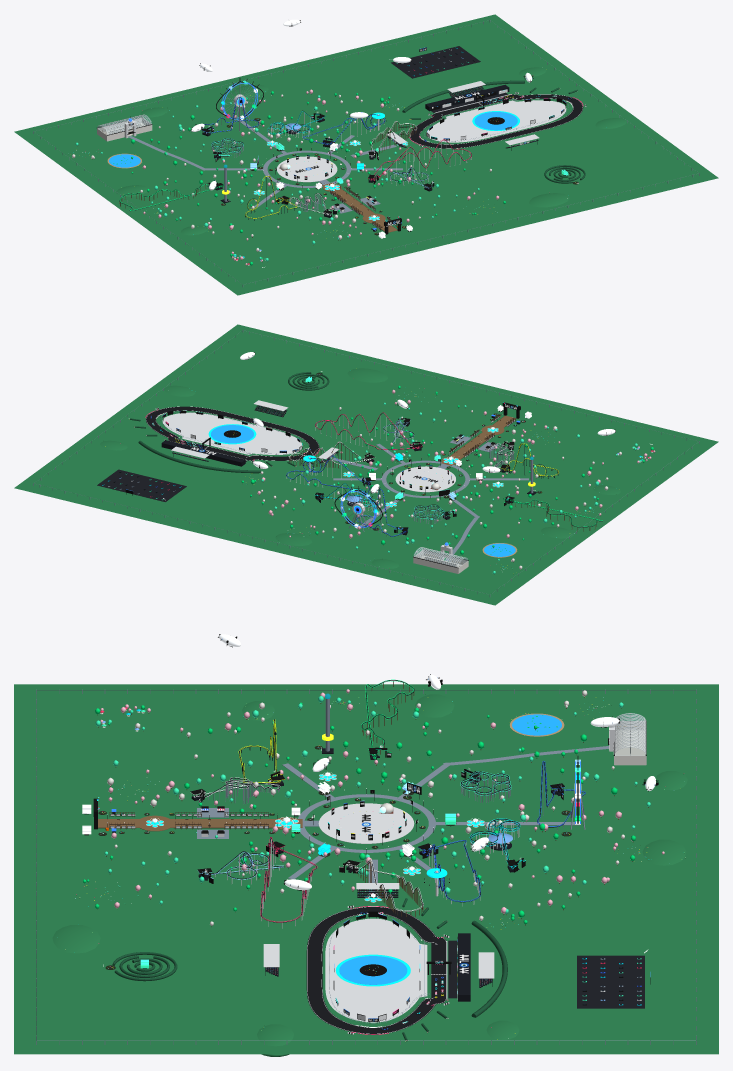
Rendered from gardens.glb.
3 views of the same model, one above another, from view 1: azimuth 30°, elevation 25°; view 2: azimuth 150°, elevation 25°; view 3: azimuth 270°, elevation 25° (orthographic). The views are drawn at different scales.
Visible parts, largest first — view 1: Ground, Sclera, Road, ParkLot, Plaza, Iris, RingPath, PitBuilding, BW_Deck, Berm3, FenceRail; view 2: Ground, Sclera, Road, ParkLot, Plaza, PitBuilding, Iris, RingPath, BW_Deck, LH_Glass, Eyebrow, FenceRail (+1 smaller); view 3: Ground, Sclera, Road, ParkLot, Plaza, FenceRail, Iris, RingPath, BW_Deck, Berm3, LH_Ribs, Berm2 (+7 smaller).
Boxes of the visible parts, bbox=[...] form: Ground: bbox=[14, 14, 718, 295]; Sclera: bbox=[426, 100, 566, 142]; Road: bbox=[410, 94, 583, 148]; ParkLot: bbox=[391, 46, 480, 78]; Plaza: bbox=[277, 156, 337, 182]; Iris: bbox=[474, 112, 517, 130]; RingPath: bbox=[263, 150, 350, 187]; PitBuilding: bbox=[425, 84, 509, 111]; BW_Deck: bbox=[322, 182, 397, 232]; Berm3: bbox=[529, 193, 569, 207]; FenceRail: bbox=[34, 20, 698, 284]; Ground: bbox=[14, 324, 718, 605]; Sclera: bbox=[162, 412, 302, 454]; Road: bbox=[146, 406, 319, 460]; ParkLot: bbox=[97, 469, 186, 501]; Plaza: bbox=[395, 466, 455, 492]; PitBuilding: bbox=[161, 440, 245, 466]; Iris: bbox=[211, 425, 253, 443]; RingPath: bbox=[382, 460, 469, 497]; BW_Deck: bbox=[441, 415, 515, 465]; LH_Glass: bbox=[413, 547, 467, 567]; Eyebrow: bbox=[138, 440, 260, 473]; FenceRail: bbox=[34, 330, 698, 594]; Ground: bbox=[14, 684, 718, 1054]; Sclera: bbox=[325, 918, 427, 1022]; Road: bbox=[306, 906, 446, 1034]; ParkLot: bbox=[577, 955, 644, 1008]; Plaza: bbox=[318, 803, 414, 843]; FenceRail: bbox=[36, 690, 695, 1040]; Iris: bbox=[339, 956, 407, 984]; RingPath: bbox=[298, 794, 435, 852]; BW_Deck: bbox=[98, 819, 302, 827]; Berm3: bbox=[52, 925, 100, 953]; LH_Ribs: bbox=[614, 713, 646, 754]; Berm2: bbox=[642, 839, 686, 865].
Bounding box in the file's own units: 770 × 113 × 620.
Materials: 179 (17 with a texture image).
